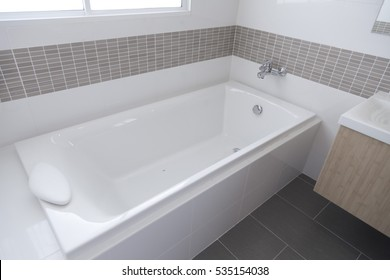bathub: (11, 73, 343, 260)
